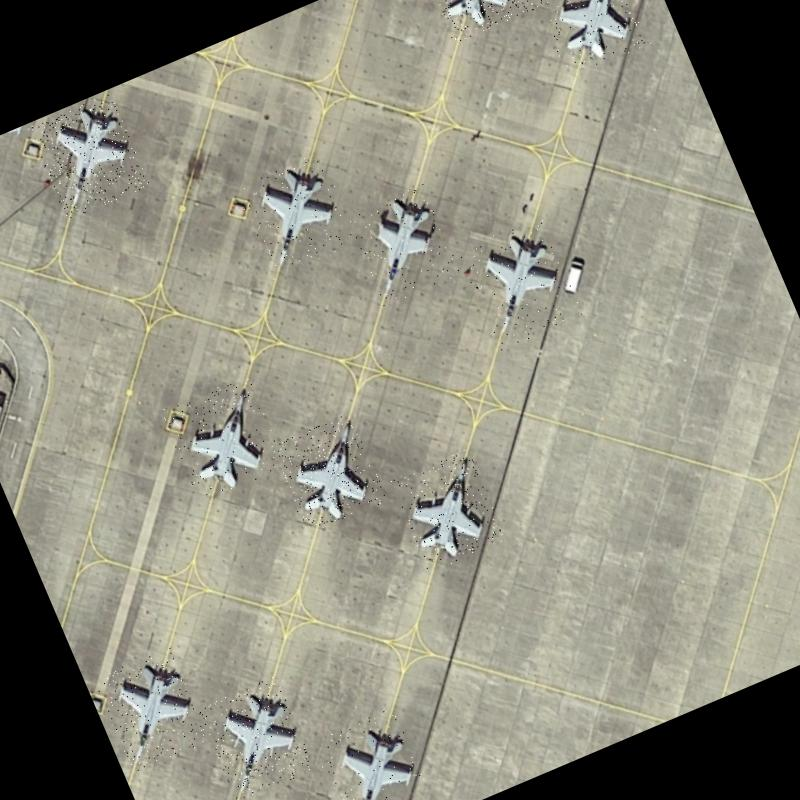A16: (457, 214, 584, 352), (159, 372, 288, 504), (233, 148, 360, 280), (28, 92, 150, 220), (197, 675, 316, 800), (94, 646, 210, 774), (344, 184, 462, 308), (390, 449, 507, 574), (270, 412, 388, 535), (311, 707, 435, 800), (529, 0, 653, 79), (417, 0, 538, 44)
